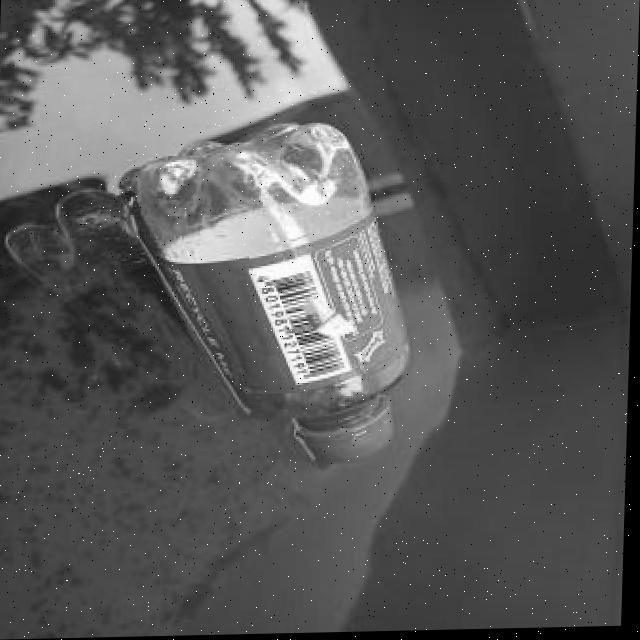bottle: (124, 114, 432, 474)
